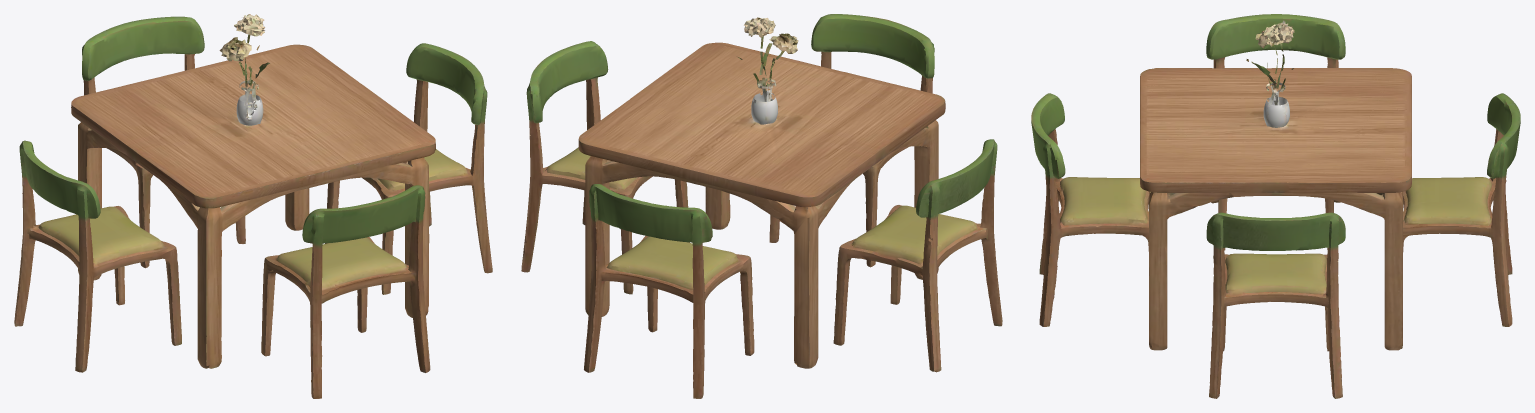
Rendered from table.glb.
The picture shows the model from 3 angles, left to right: view 1: azimuth 30°, elevation 25°; view 2: azimuth 150°, elevation 25°; view 3: azimuth 270°, elevation 25°; orthographic projection. The views are drawn at different scales.
Visible parts, largest first — view 1: Table_1; view 2: Table_1; view 3: Table_1.
Boxes of the visible parts, x1=… form: Table_1: x1=14, y1=14, x2=492, y2=398; Table_1: x1=521, y1=14, x2=1002, y2=398; Table_1: x1=1031, y1=14, x2=1520, y2=398.
Size of the model in its own units: 0.7639 by 0.477 by 0.764.
Materials: 1 (1 with a texture image).
